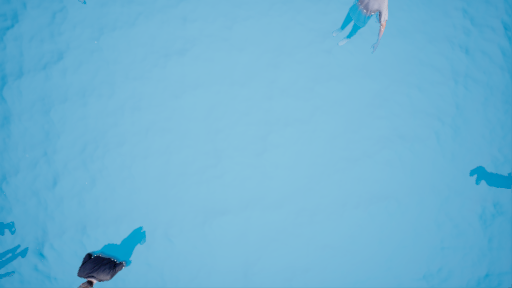person: (69, 217, 149, 288), (335, 1, 393, 64)
